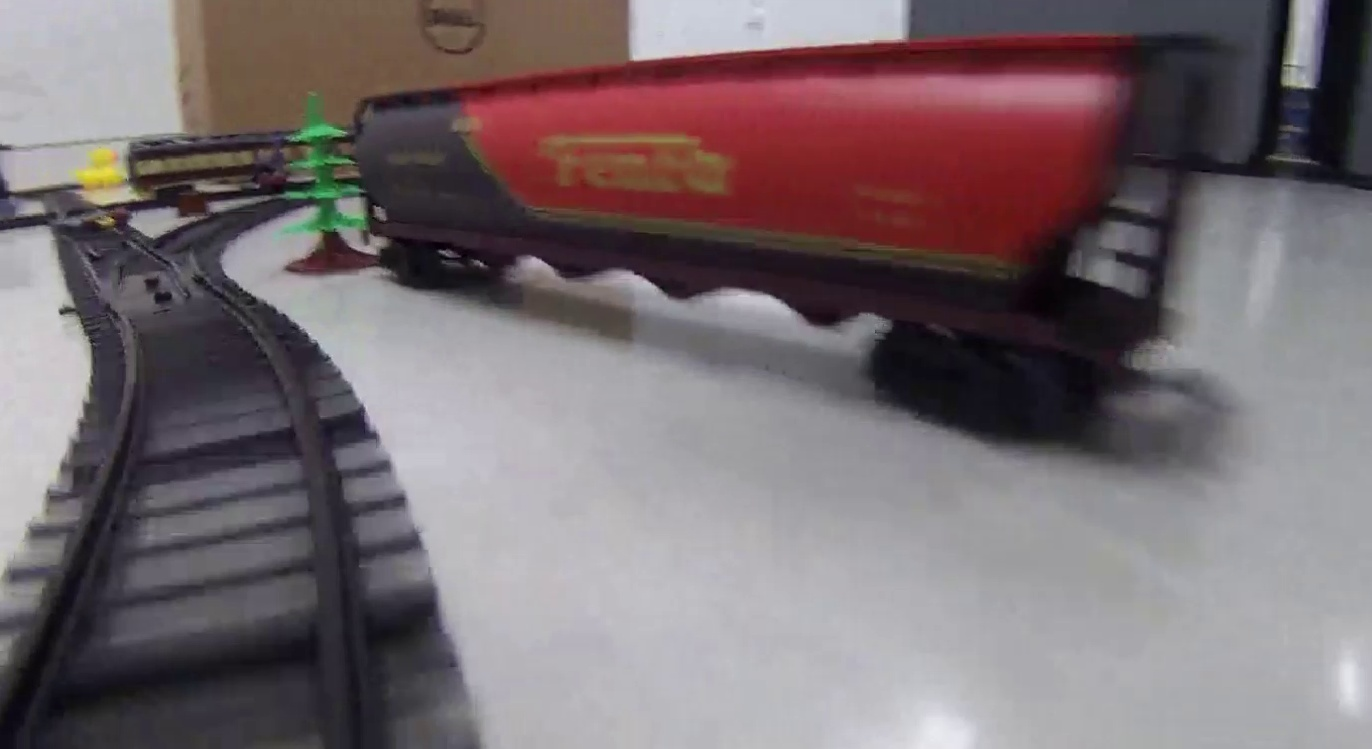tree: (284, 91, 360, 273)
